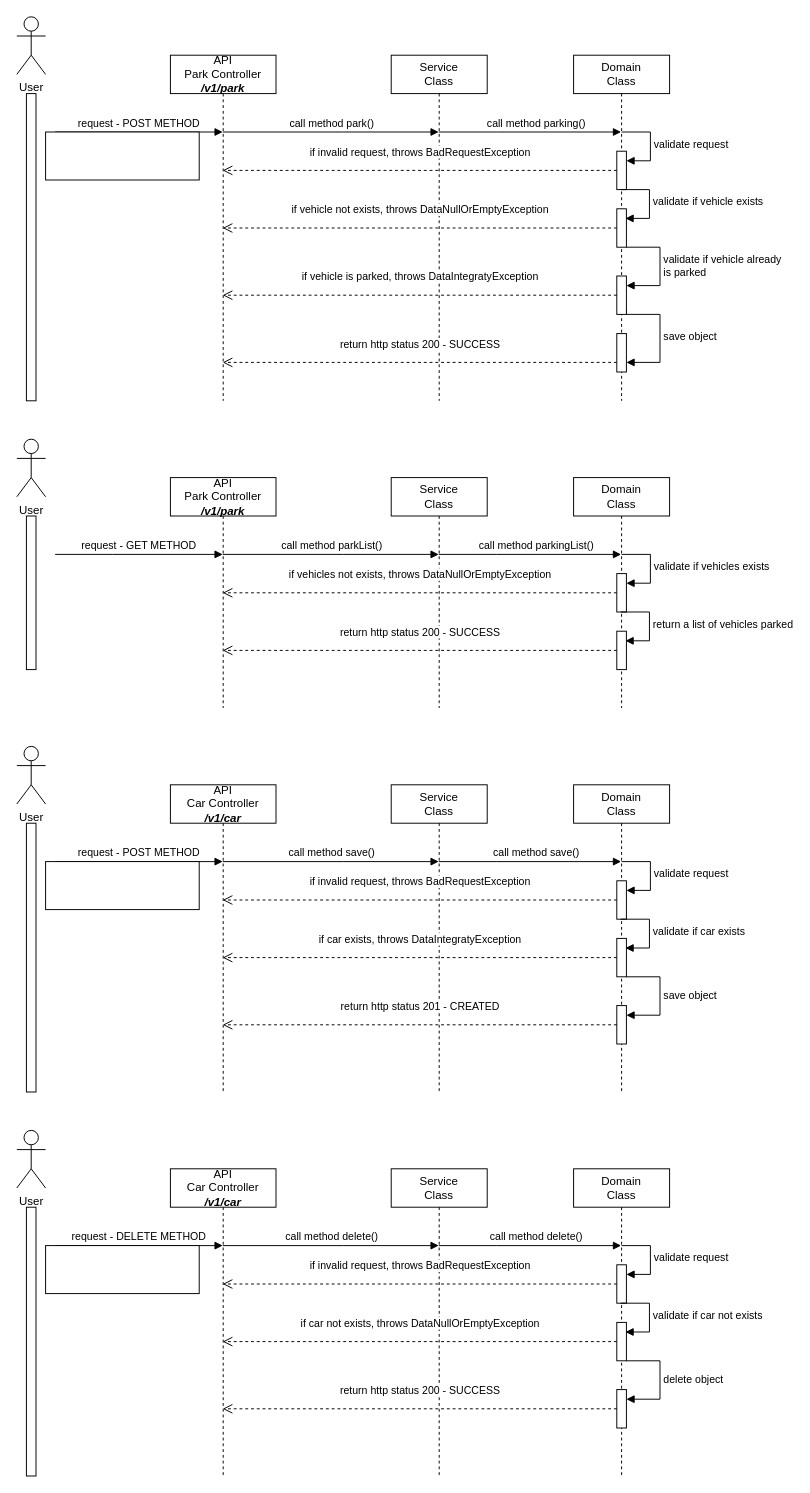
The diagram is 810 pixels wide and 1493 high, and some of its shapes have lost their labels. The shapes that lost their labels are listed below. From the top down, each one's centre as x and y in pixels, then its label:
point 122,155: ParkRequest
point 122,885: CarRequest
point 122,1269: Long ID
